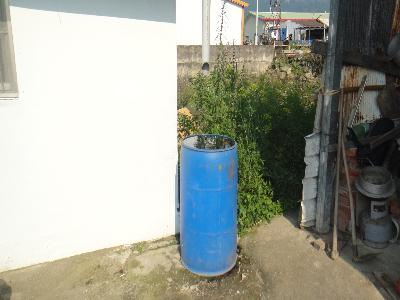bowl: (355, 164, 393, 194)
bucket: (179, 133, 238, 278)
